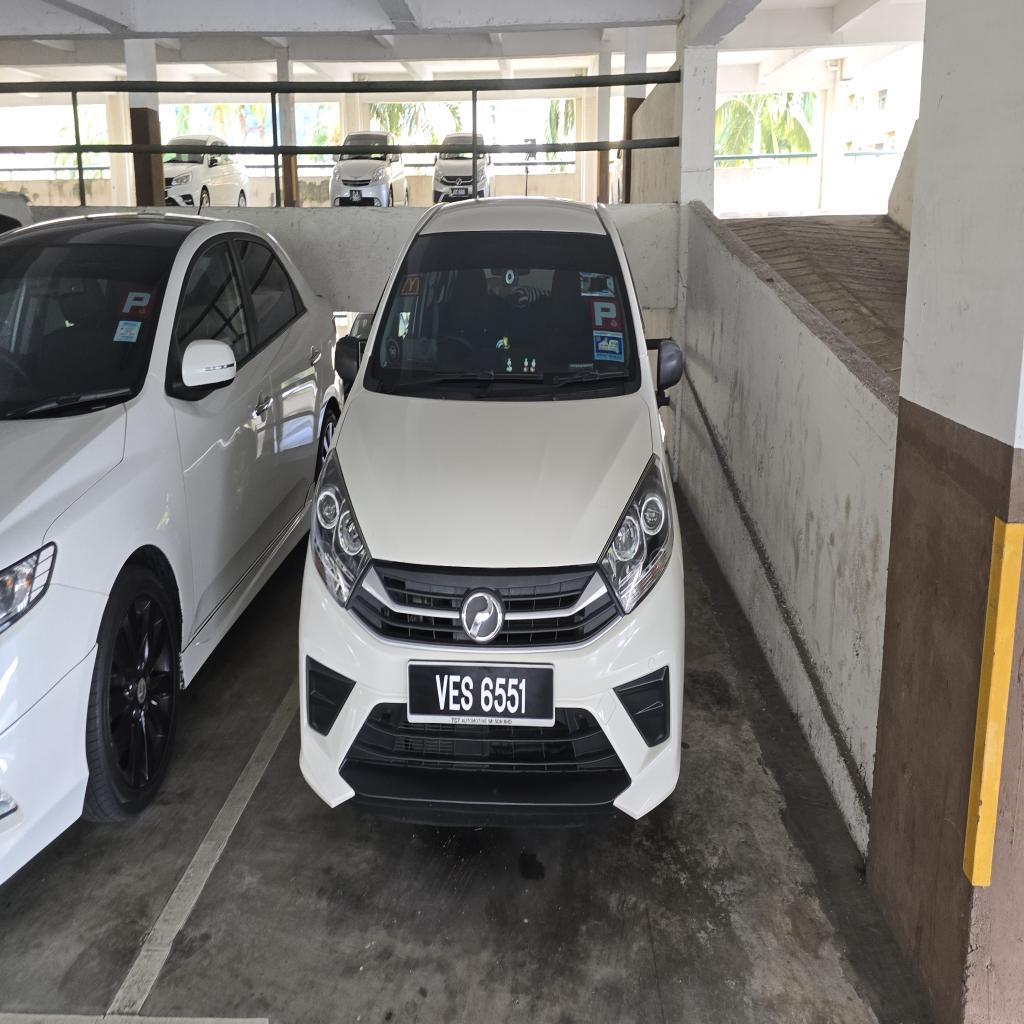car: (300, 199, 683, 824)
car plate: (408, 663, 554, 725)
